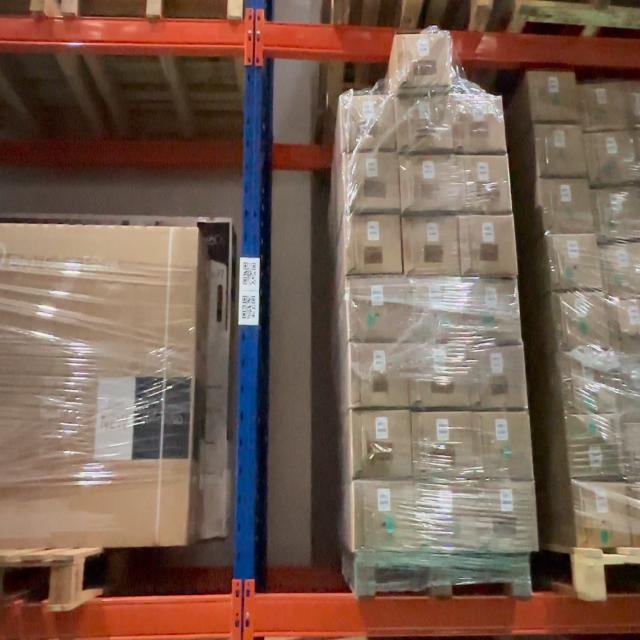box: (354, 482, 415, 548), (418, 482, 479, 548), (353, 411, 411, 477), (413, 413, 472, 477), (480, 482, 534, 550), (352, 345, 408, 407), (411, 346, 468, 406), (475, 414, 529, 477), (576, 483, 627, 548), (351, 278, 405, 339), (348, 214, 402, 273), (474, 347, 526, 408), (407, 216, 461, 273), (409, 280, 461, 338), (462, 217, 514, 274), (400, 96, 452, 152), (397, 32, 448, 88), (348, 153, 398, 210), (402, 156, 454, 210), (346, 96, 397, 150), (460, 156, 509, 212), (470, 280, 517, 338), (572, 418, 617, 478), (559, 294, 606, 348), (455, 99, 502, 152), (590, 132, 637, 184), (571, 353, 613, 411), (554, 236, 600, 288), (532, 70, 578, 121), (542, 182, 588, 232), (538, 127, 583, 177), (595, 190, 638, 241), (603, 244, 639, 297), (611, 300, 640, 358), (586, 85, 622, 130), (620, 362, 640, 415), (625, 424, 640, 480), (624, 85, 640, 129), (630, 484, 640, 547)
